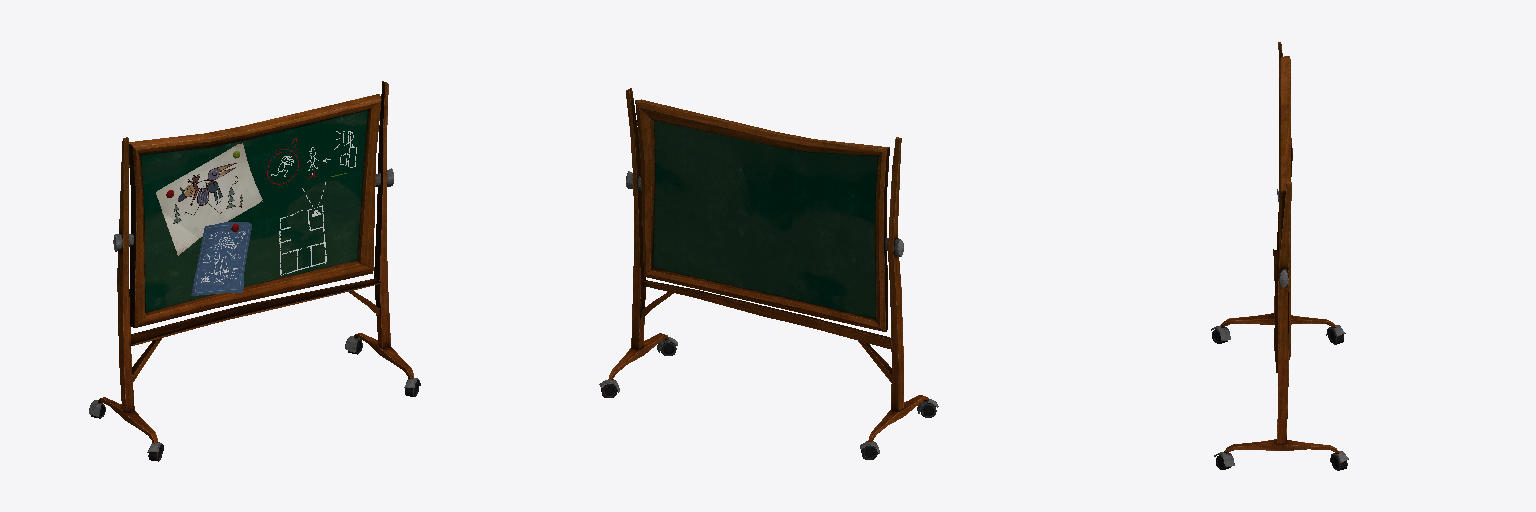
3 renders of one model, left to right at view 1: azimuth 30°, elevation 25°; view 2: azimuth 150°, elevation 25°; view 3: azimuth 270°, elevation 25°, orthographic.
Visible parts, largest first — view 1: board, Object_3; view 2: board; view 3: board.
Part boxes in pixels (x1,y1,x2,y2): board: (89, 81, 420, 461); Object_3: (156, 131, 356, 295); board: (599, 88, 938, 459); board: (1211, 42, 1348, 470).
Bounding box in the file's own units: 2.27 × 2.33 × 0.9777.
Materials: 3 (2 with a texture image).